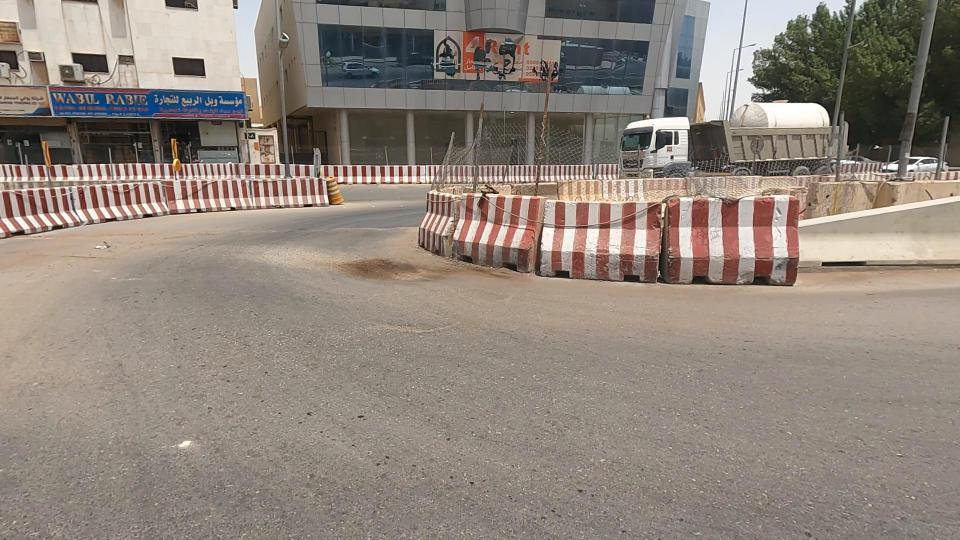CONSTRUCTION_ROAD: (336, 67, 732, 339), (579, 126, 847, 328), (100, 137, 405, 265), (0, 139, 266, 270)
